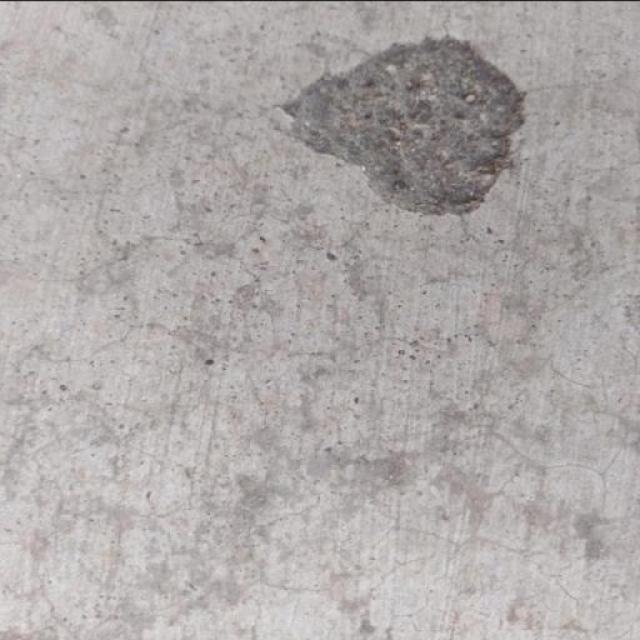D10: (282, 35, 526, 215)
